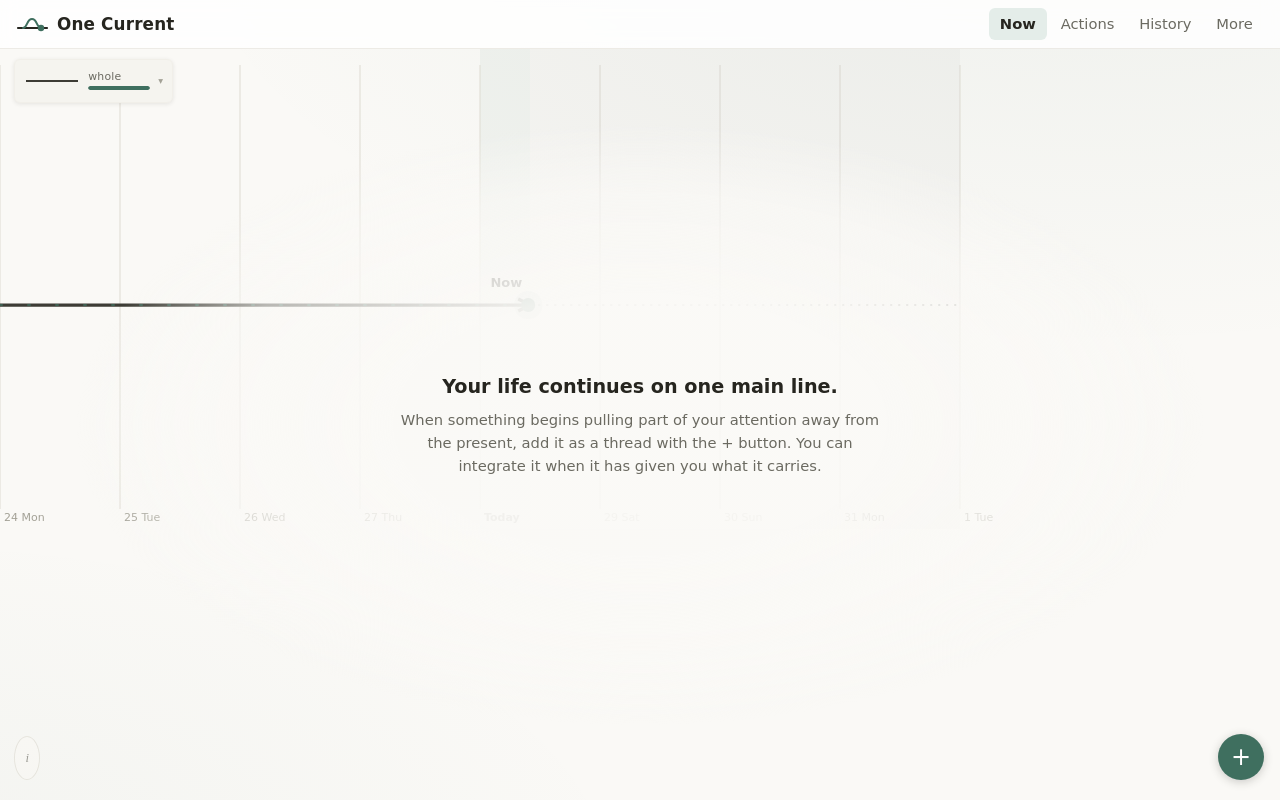
Scenario: app flows › creates a thread in one compact screen
Click the button named "New thread" at {"x": 1241, "y": 757}, box x1=1218 y1=734 x2=1264 y2=780
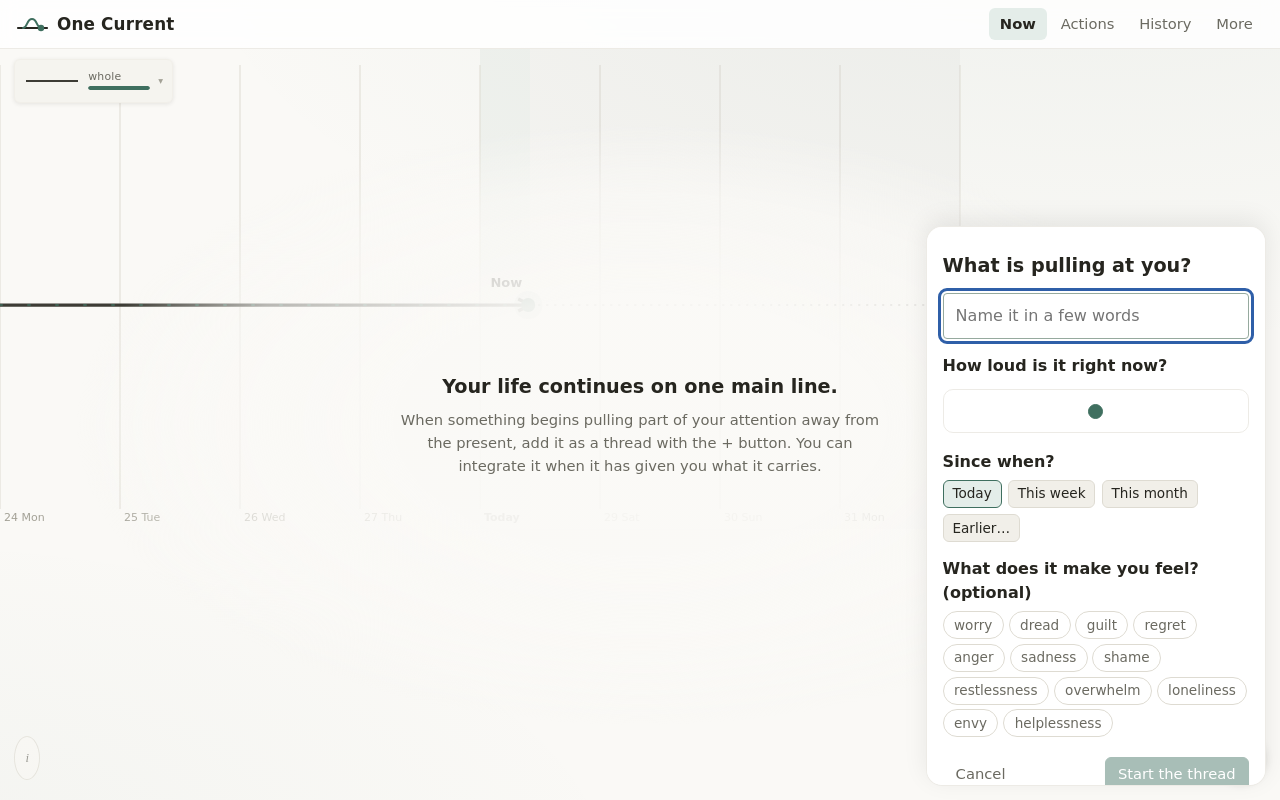
Type "Career direction" into the field named "Name the thread" at {"x": 1096, "y": 316}, box x1=943 y1=293 x2=1249 y2=339
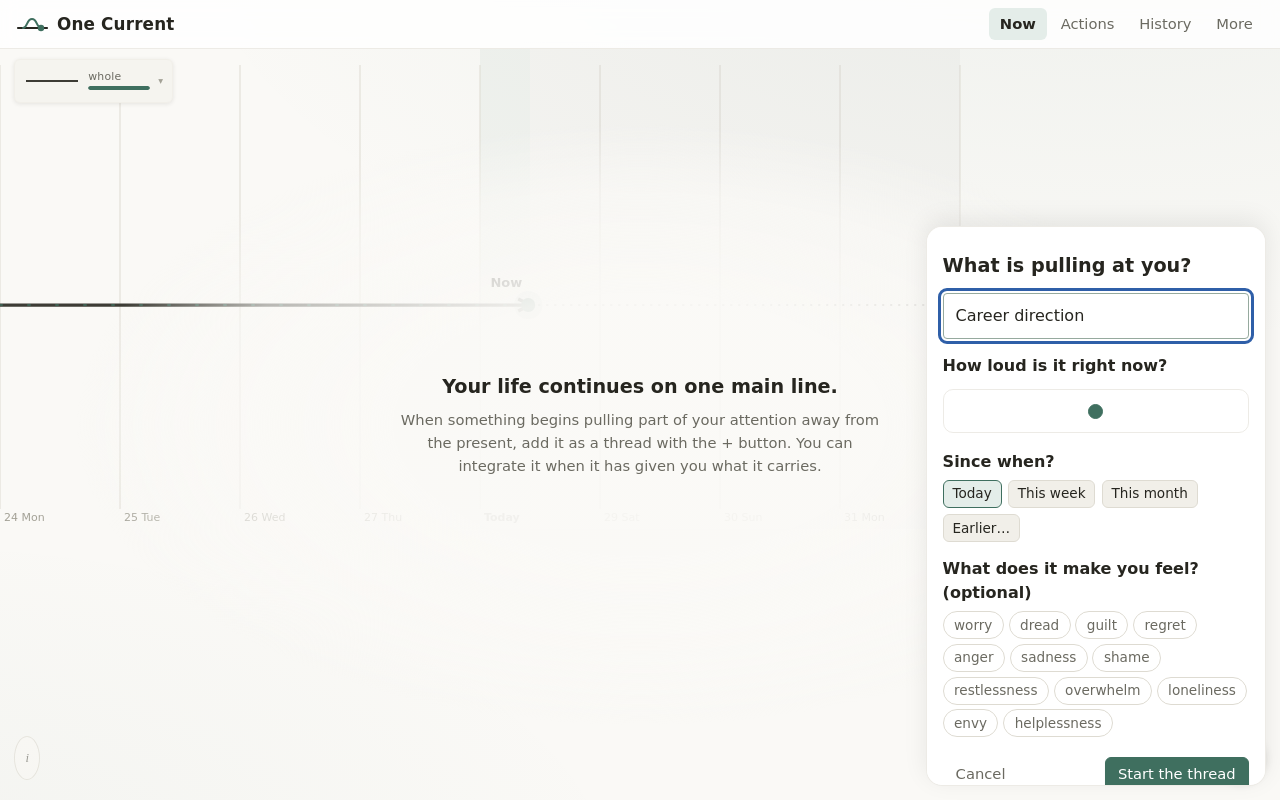
Click the button "Start the thread" at {"x": 1177, "y": 775}, box x1=1105 y1=758 x2=1249 y2=792
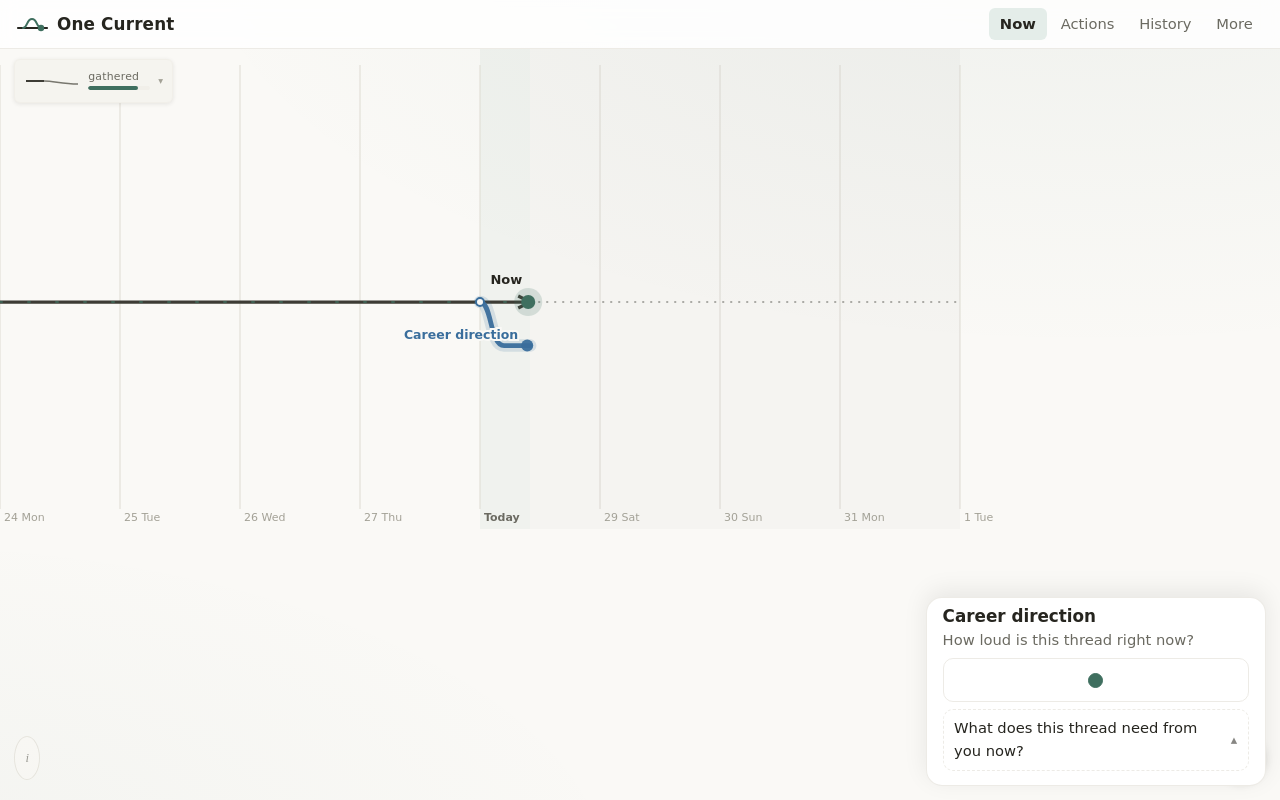
Expected: the button "What does this thread need from you now?" is shown, x1=943 y1=709 x2=1249 y2=771
